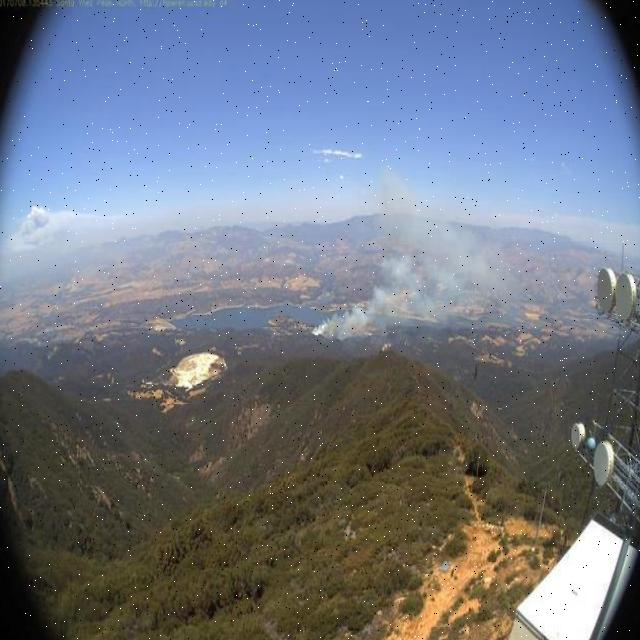smoke: (309, 159, 535, 344)
